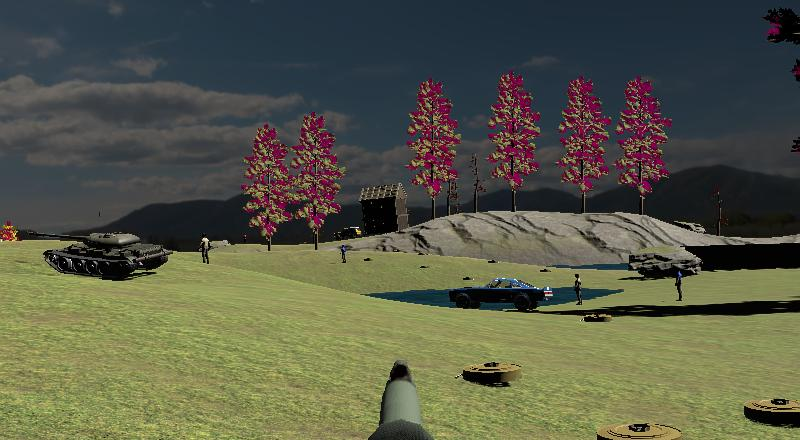House: (359, 182, 411, 237)
Human: (196, 231, 214, 268), (671, 264, 686, 304), (571, 271, 585, 307), (337, 242, 350, 265)
Tank: (22, 224, 175, 283)
car: (445, 273, 557, 315)
